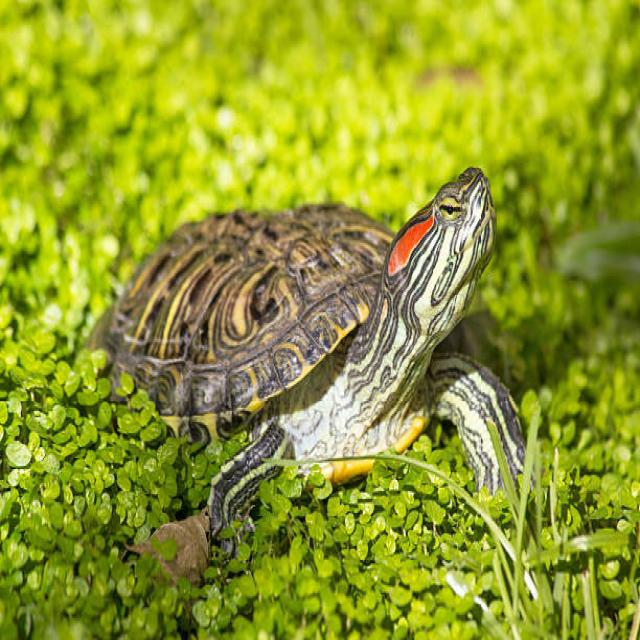terrapin: (54, 177, 373, 404), (392, 140, 518, 341), (430, 360, 542, 558), (200, 426, 331, 560)
